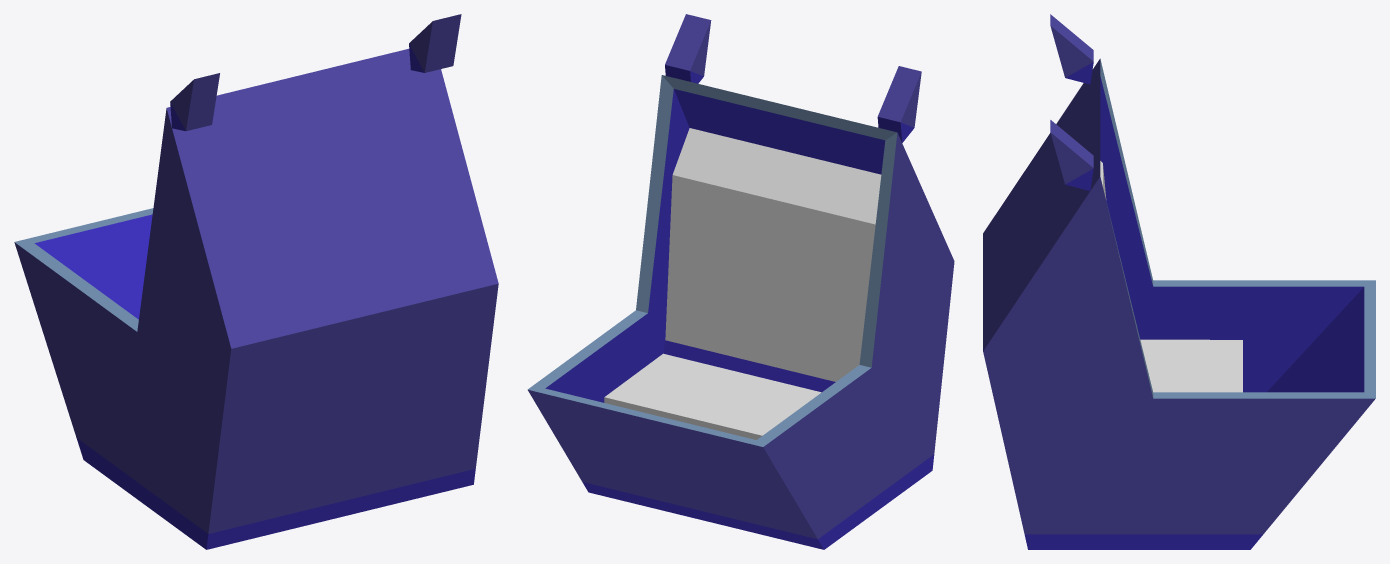
Rendered from DC_Raccoon_Ferris_Wheel_Cart.fbx.
3 renders of one model, left to right at view 1: azimuth 30°, elevation 25°; view 2: azimuth 150°, elevation 25°; view 3: azimuth 270°, elevation 25°, orthographic. The views are drawn at different scales.
Parts seen in each view (by area): view 1: Cart; view 2: Cart; view 3: Cart.
Part boxes in pixels (bbox=[...]): Cart: bbox=[14, 14, 498, 549]; Cart: bbox=[527, 14, 954, 549]; Cart: bbox=[983, 14, 1375, 549].
Bounding box in the file's own units: 103 × 169 × 144.
